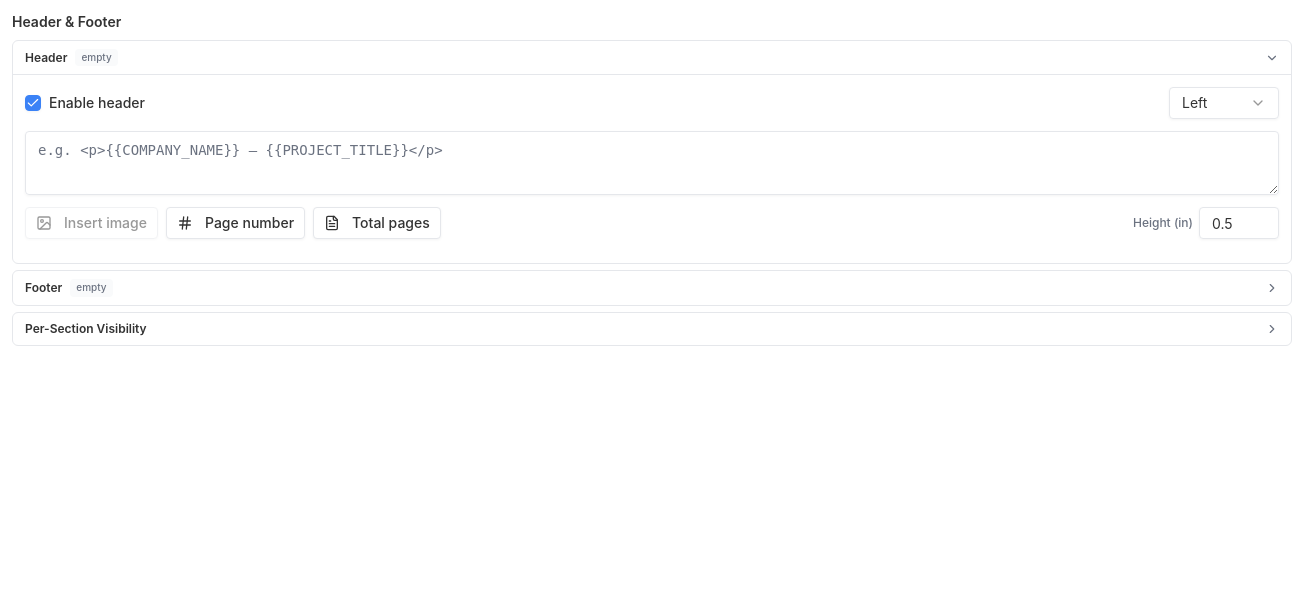
Scenario: TemplateFurniturePanel — per-section visibility › enables the header toggles once header content is entered
Type "<p>ACME</p>" into the text box named "Header content".
click(652, 163); type("<p>ACME</p>")  # box x1=25 y1=131 x2=1279 y2=195
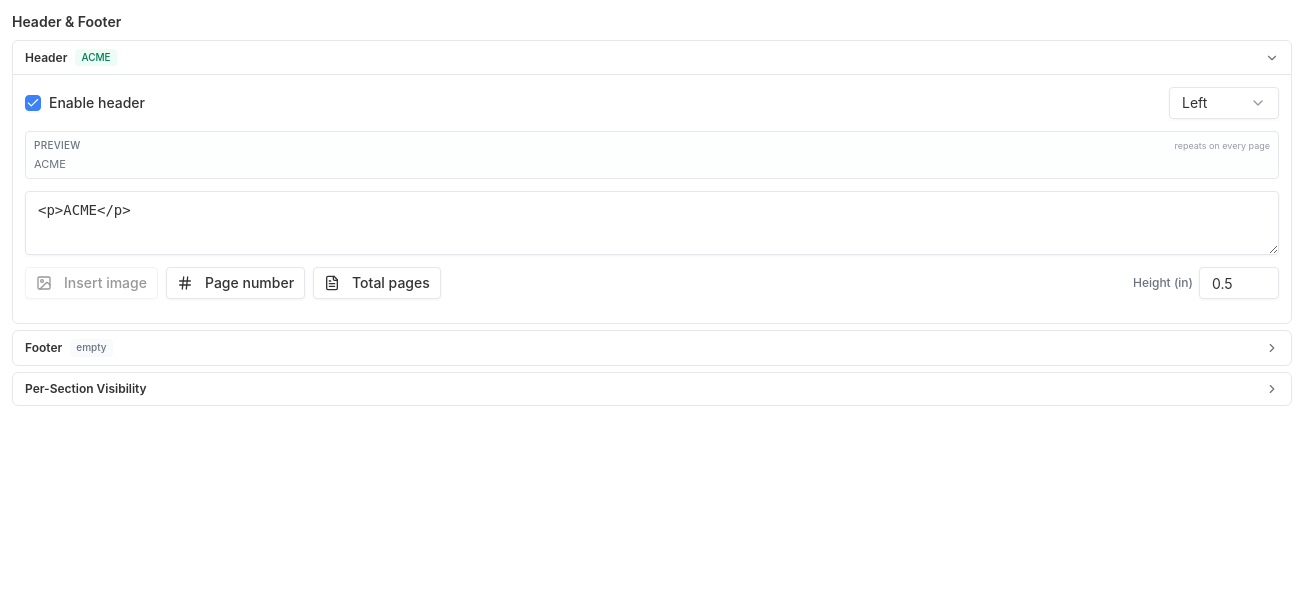
Click the button "Per-Section Visibility".
click(86, 388)  # box x1=13 y1=373 x2=1291 y2=405
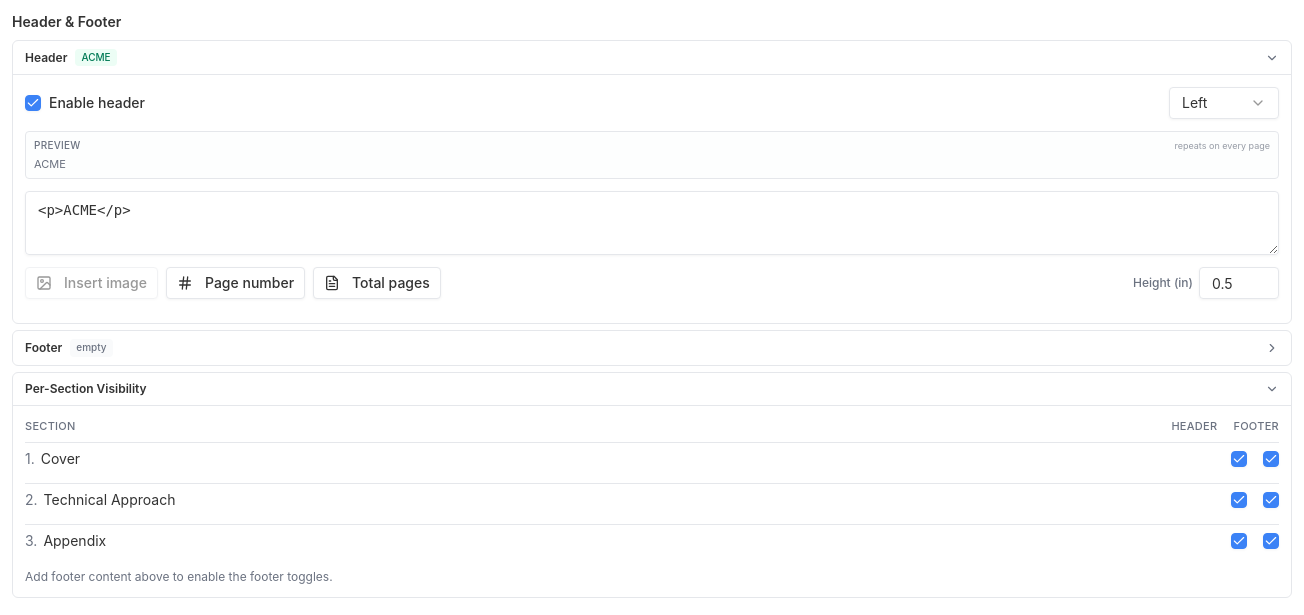
Check: the checkbox named "Show header on section 1" is enabled, box x1=1231 y1=451 x2=1247 y2=467
